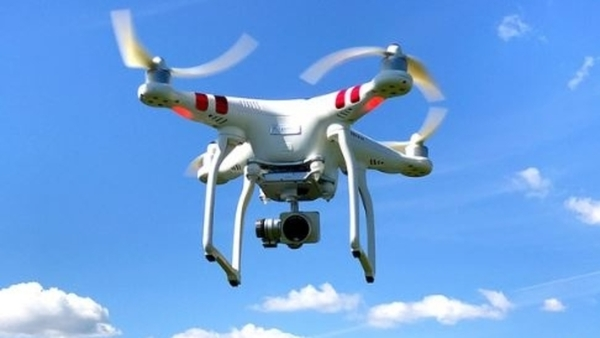drone: (109, 8, 449, 290)
